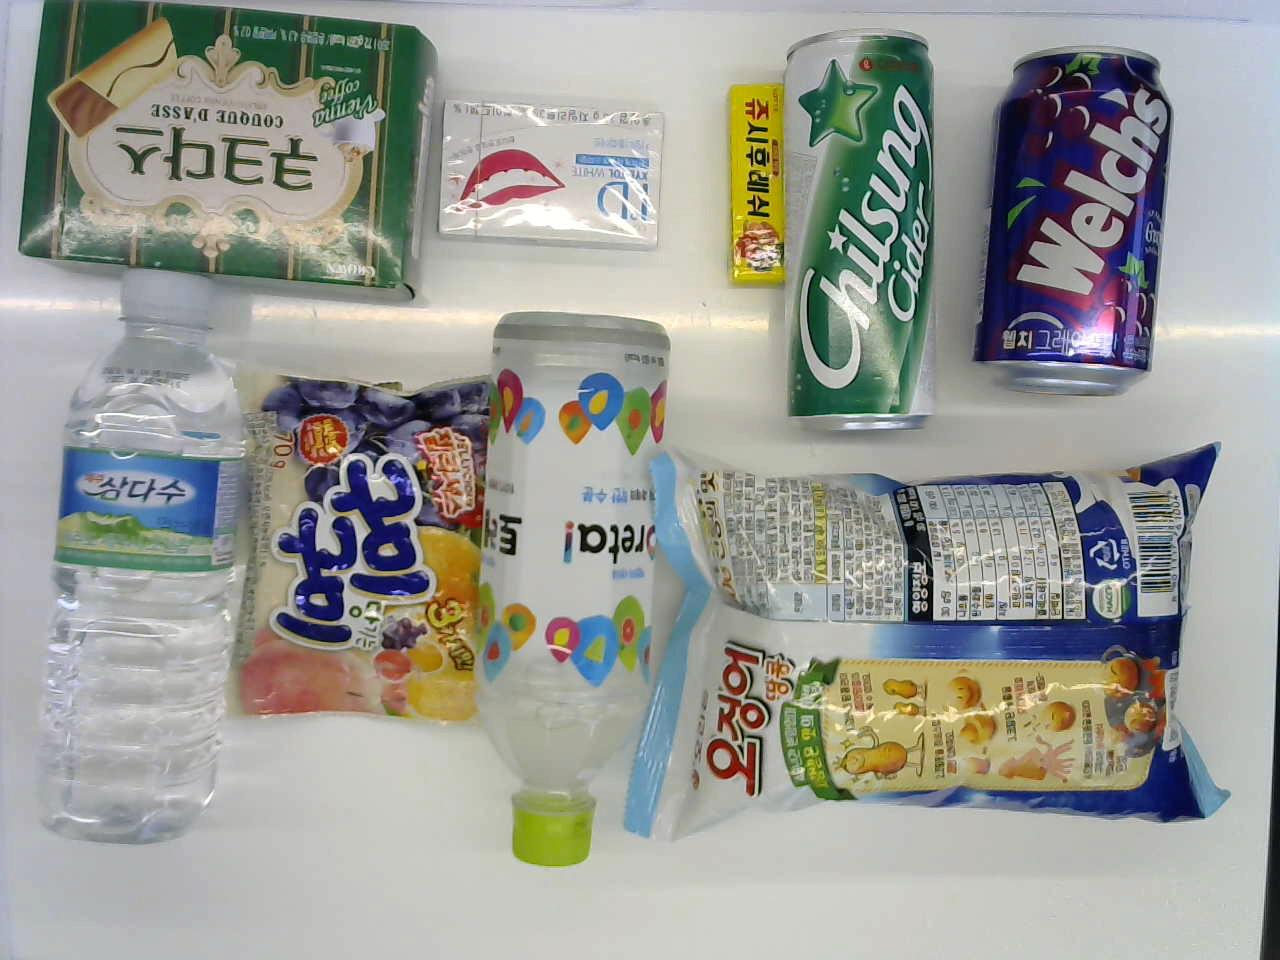ID_gum: (425, 99, 674, 258)
cidar: (784, 27, 947, 441)
couque_coffee: (19, 3, 439, 291)
gumi_gumi: (231, 365, 499, 738)
juicyfresh: (726, 76, 786, 282)
samdasu: (45, 266, 244, 849)
squid_peanut: (656, 435, 1219, 859)
toreta: (475, 312, 683, 861)
welchs: (979, 48, 1188, 398)
